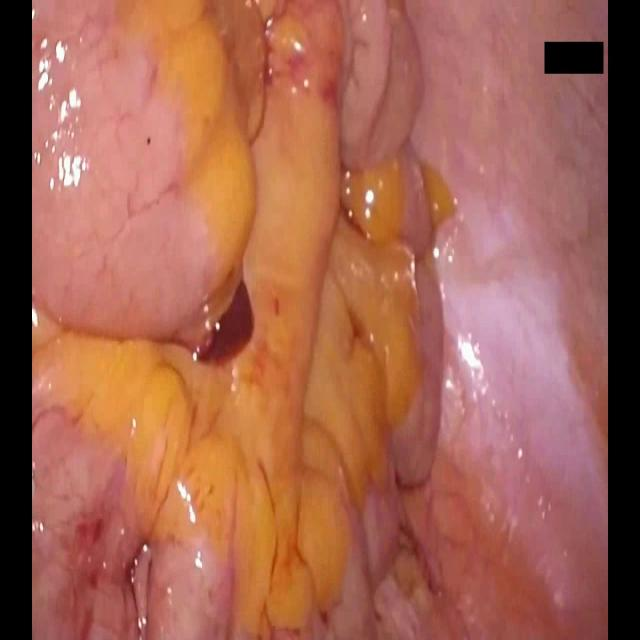surgical-area: (32, 0, 608, 639)
